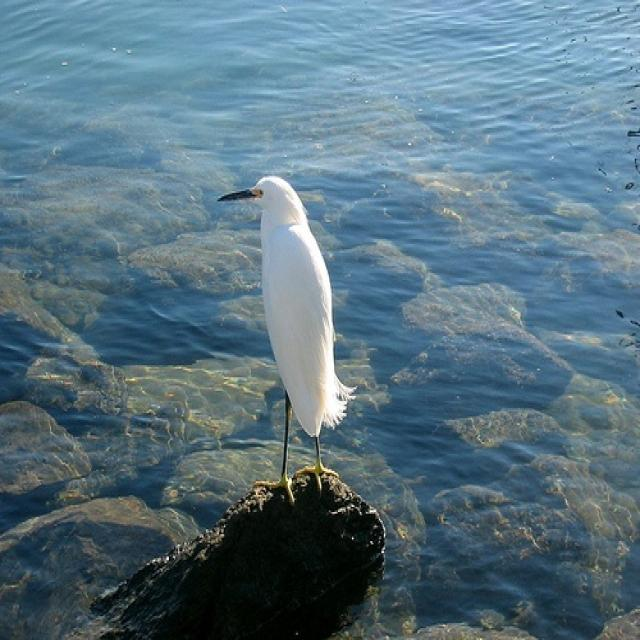bird: (216, 174, 354, 510)
